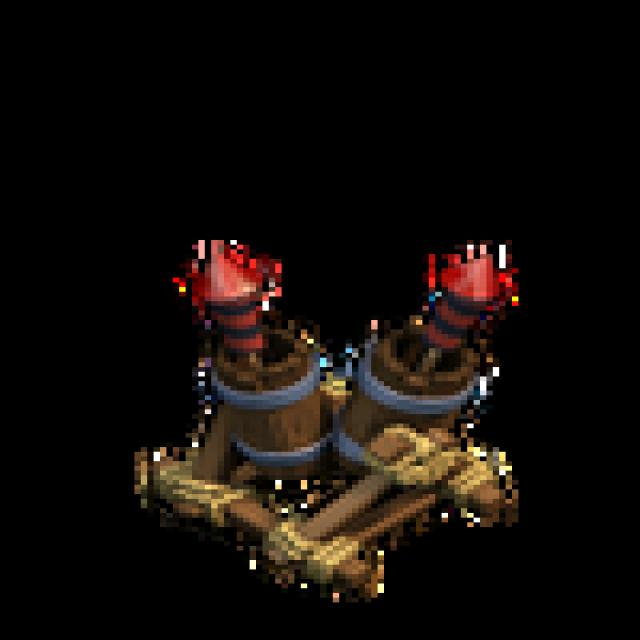air_defense: (93, 230, 560, 594)
